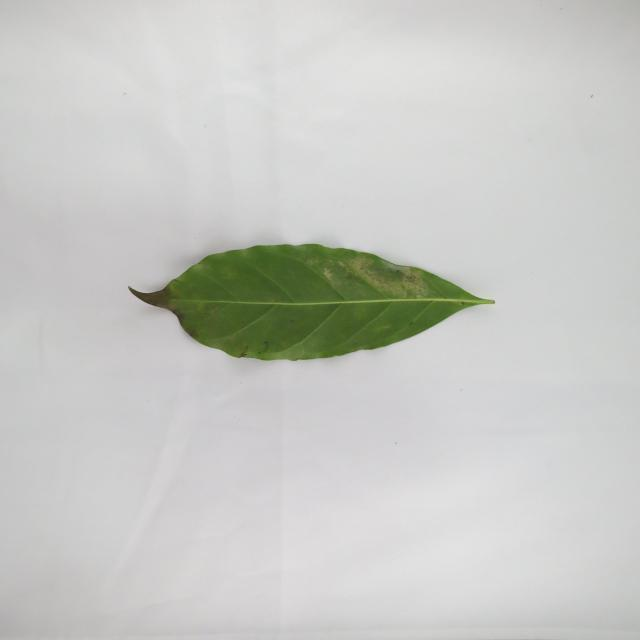DeficienciaNutricional-Potasio: (130, 244, 493, 360)
